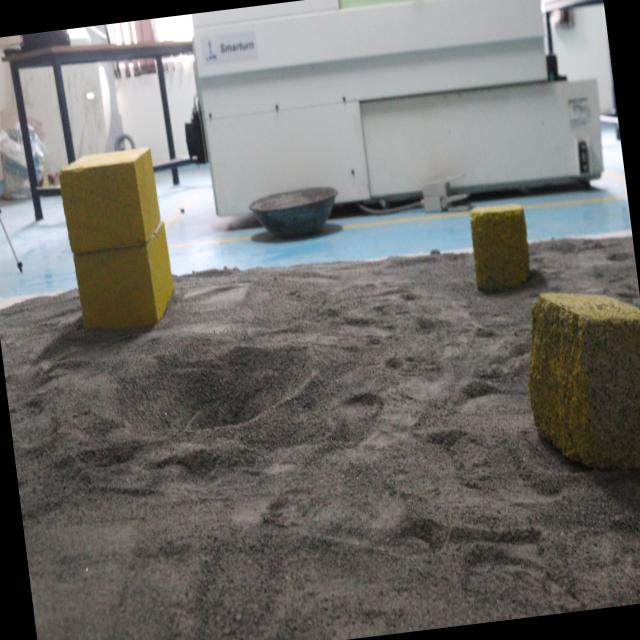box: (512, 287, 640, 476), (51, 146, 176, 336), (464, 190, 540, 296)
crater: (102, 320, 314, 450)
